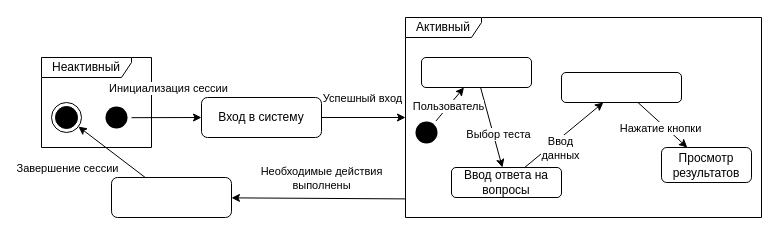
Image size: 780x235. Some labels were removed from this diagram. The shapes that lost their labels are listed below. From the top down, each one's centre as x and y in pixels, then its label:
[476,72]: Просмотр тестов
[621,87]: Проверка ответов
[171,197]: Выход из системы
